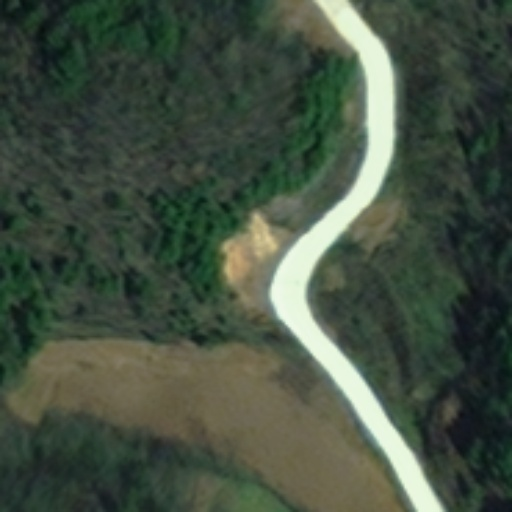landslide: (223, 206, 283, 303)
